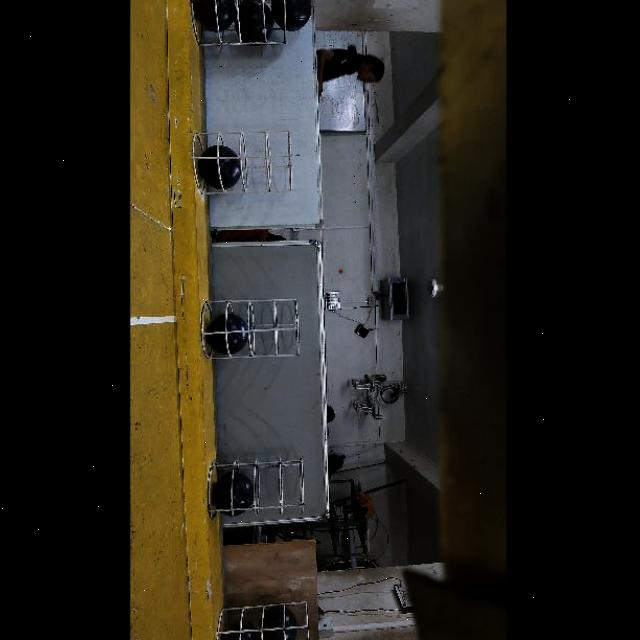P: (198, 145, 241, 190), (212, 471, 253, 517), (234, 0, 274, 46), (206, 313, 249, 355), (271, 0, 312, 32), (194, 0, 235, 32), (263, 606, 298, 640), (221, 621, 259, 640)
S: (195, 132, 292, 196), (204, 458, 300, 518), (202, 304, 302, 358), (188, 1, 292, 52), (215, 606, 311, 640)
